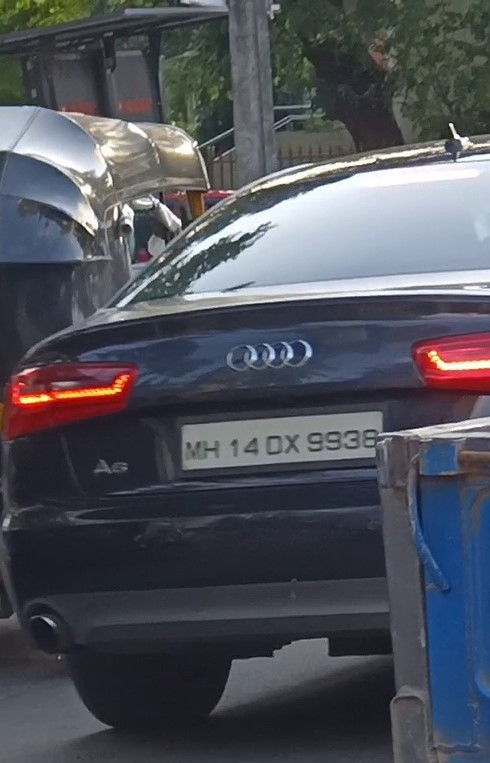MH14DX9938: (179, 410, 387, 471)
